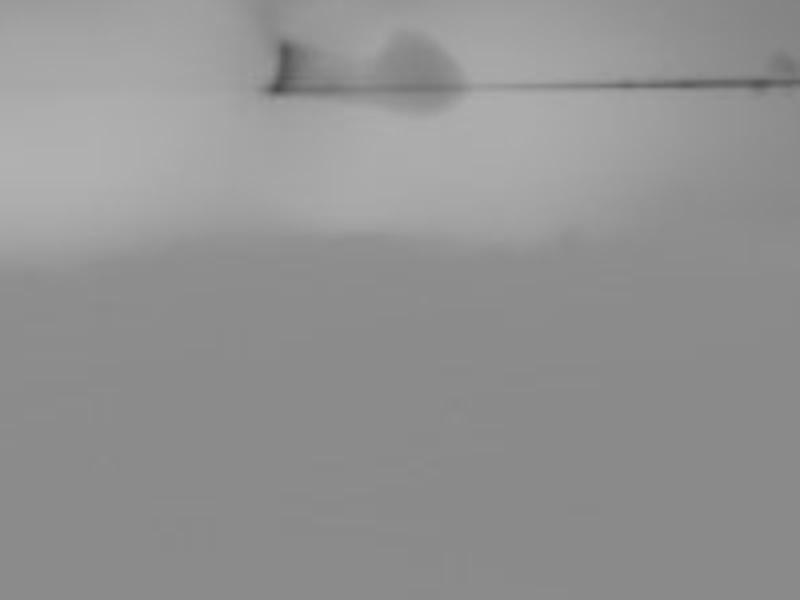defect: (372, 31, 470, 121), (771, 54, 797, 80)
